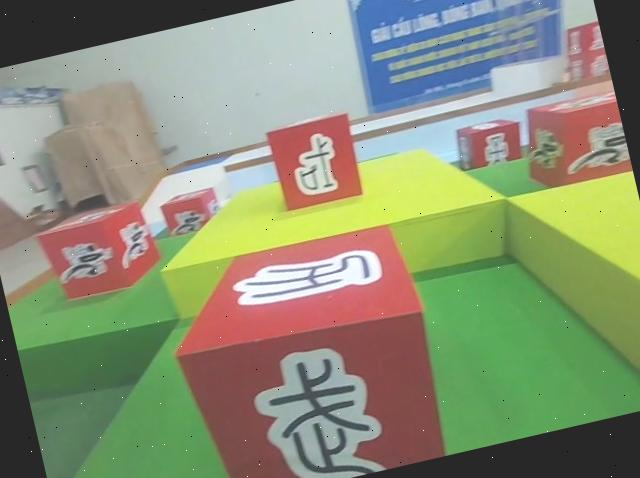R1: (34, 193, 168, 305), (511, 85, 633, 196), (157, 184, 227, 239)
R2 Fake: (151, 212, 458, 478)
R2 Real: (261, 109, 368, 216), (448, 112, 528, 176)
